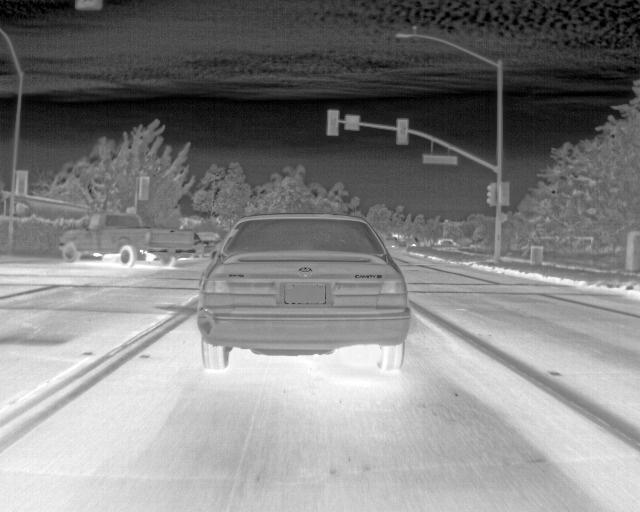car: (197, 212, 410, 370), (59, 213, 197, 263), (194, 228, 217, 256), (433, 237, 456, 250)
